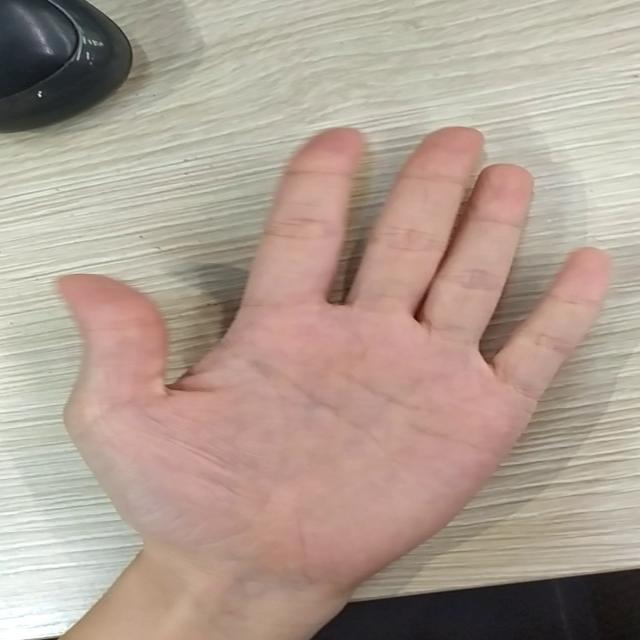hand: (59, 118, 597, 569)
